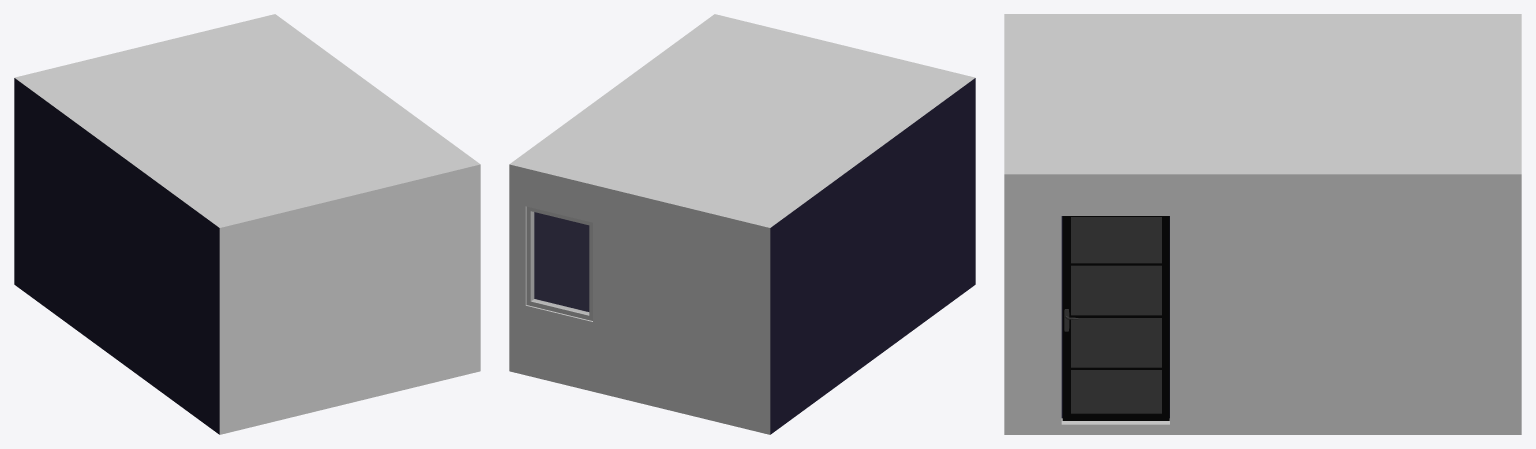
Rendered from Room Depression through the other eye.fbx.
3 views of the same model, side by side, from view 1: azimuth 30°, elevation 25°; view 2: azimuth 150°, elevation 25°; view 3: azimuth 270°, elevation 25° (orthographic). The views are drawn at different scales.
Parts seen in each view (by area): view 1: room; view 2: room, Raam; view 3: room, Slapkamer deur, SlaapkamerDeurFrame.
Boxes of the visible parts, left/top/right/bottom form: room: left=14, top=14, right=480, bottom=434; room: left=509, top=14, right=975, bottom=434; Raam: left=526, top=206, right=592, bottom=320; room: left=1004, top=14, right=1521, bottom=434; Slapkamer deur: left=1062, top=216, right=1169, bottom=420; SlaapkamerDeurFrame: left=1061, top=216, right=1169, bottom=418.
Size of the model in its own units: 330 by 250 by 450.
